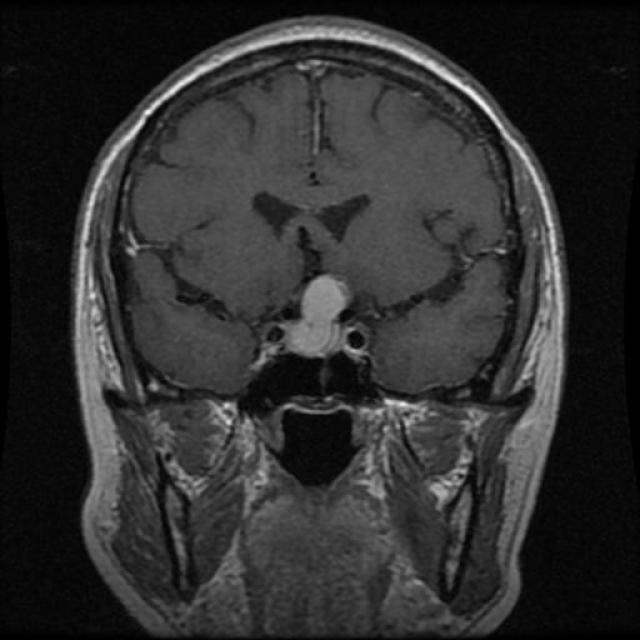pituitary: (278, 264, 367, 366)
